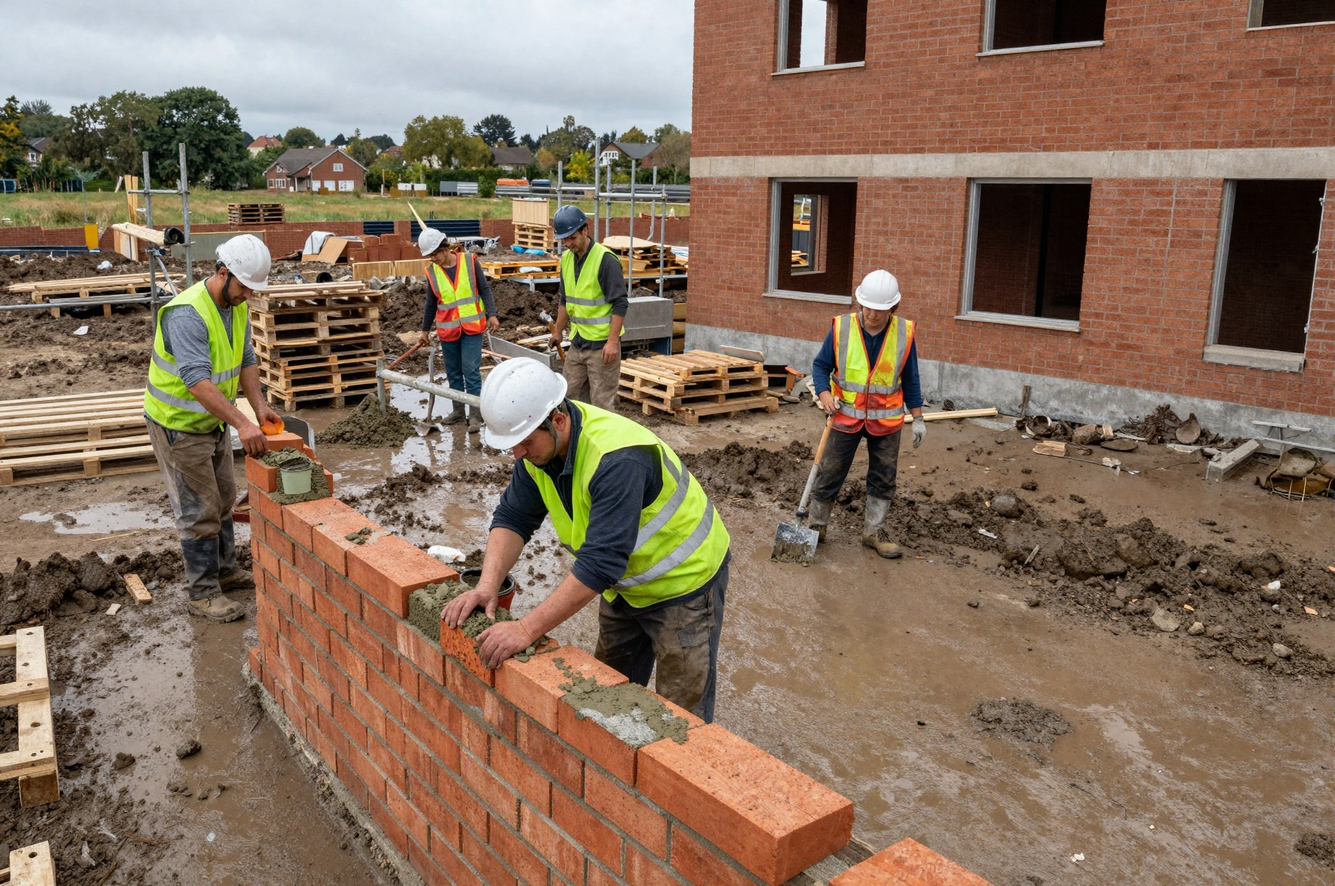helmet: (459, 351, 588, 456), (849, 248, 906, 316), (211, 237, 287, 287), (549, 197, 595, 241), (406, 221, 456, 261), (555, 195, 579, 204)
vests: (511, 390, 740, 610), (143, 274, 252, 445), (823, 305, 908, 447), (551, 248, 619, 351), (419, 263, 483, 338)
